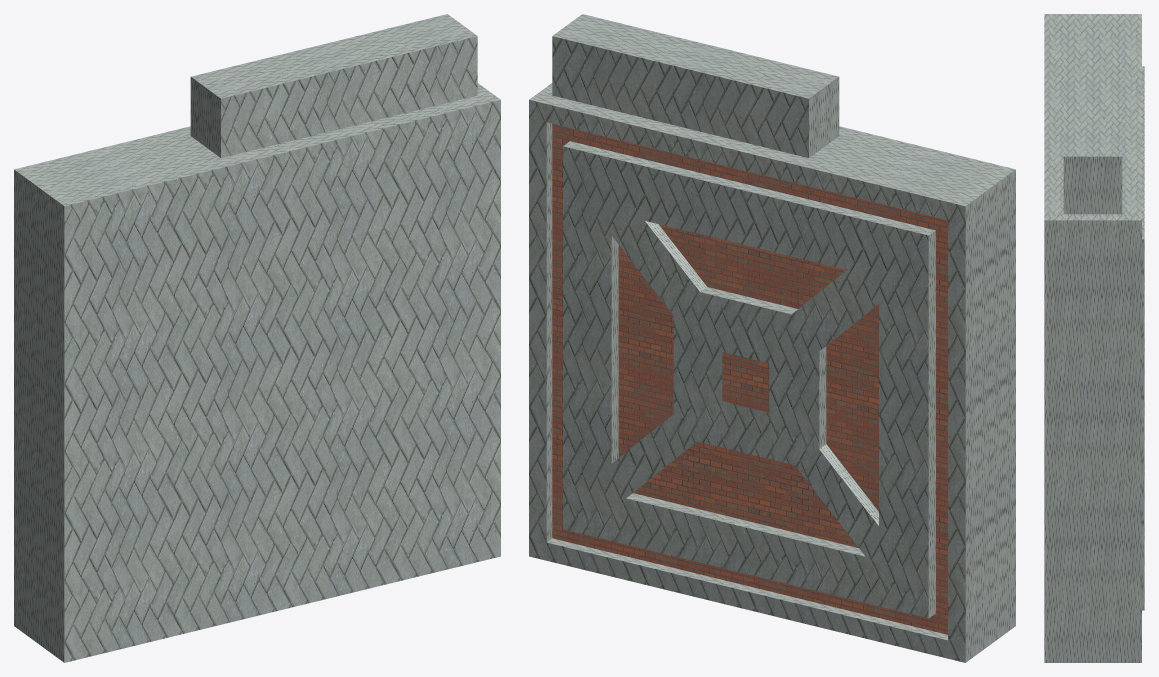
Rendered from BigDoor_.fbx.
The picture shows the model from 3 angles, left to right: view 1: azimuth 30°, elevation 25°; view 2: azimuth 150°, elevation 25°; view 3: azimuth 270°, elevation 25°; orthographic projection. The views are drawn at different scales.
Parts seen in each view (by area): view 1: Box001; view 2: Box001; view 3: Box001.
Part boxes in pixels (x1=…): Box001: x1=14, y1=14, x2=500, y2=662; Box001: x1=529, y1=14, x2=1015, y2=662; Box001: x1=1044, y1=14, x2=1144, y2=662.
Bounding box in the file's own units: 40 × 8.23 × 45.21.
2 materials, 2 textured.
